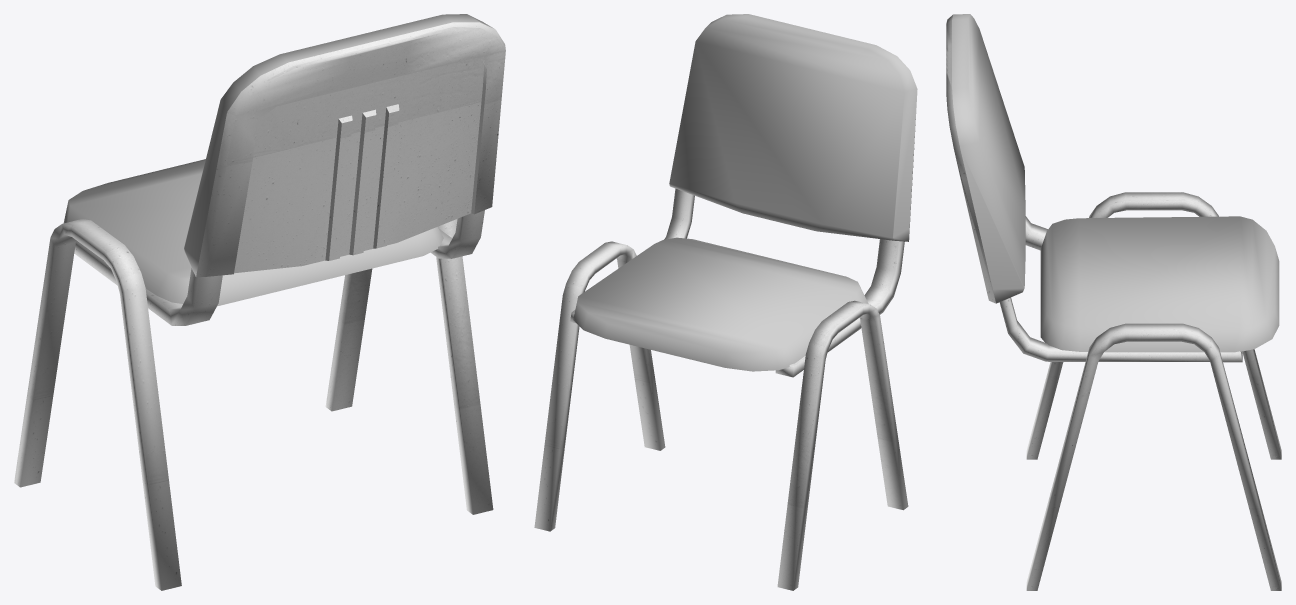
File: Chair06.FBX
3 views of the same model, side by side, from view 1: azimuth 30°, elevation 25°; view 2: azimuth 150°, elevation 25°; view 3: azimuth 270°, elevation 25° (orthographic). The views are drawn at different scales.
Visible parts, largest first — view 1: Chair06Metal, Chair06Fabric; view 2: Chair06Fabric, Chair06Metal; view 3: Chair06Fabric, Chair06Metal.
Part boxes in pixels (x1=…): Chair06Metal: x1=14, y1=22, x2=505, y2=590; Chair06Fabric: x1=63, y1=14, x2=493, y2=306; Chair06Fabric: x1=573, y1=14, x2=917, y2=371; Chair06Metal: x1=534, y1=113, x2=916, y2=590; Chair06Fabric: x1=952, y1=14, x2=1279, y2=352; Chair06Metal: x1=946, y1=15, x2=1281, y2=590.
Size of the model in its own units: 0.3046 by 0.4744 by 0.3087.
